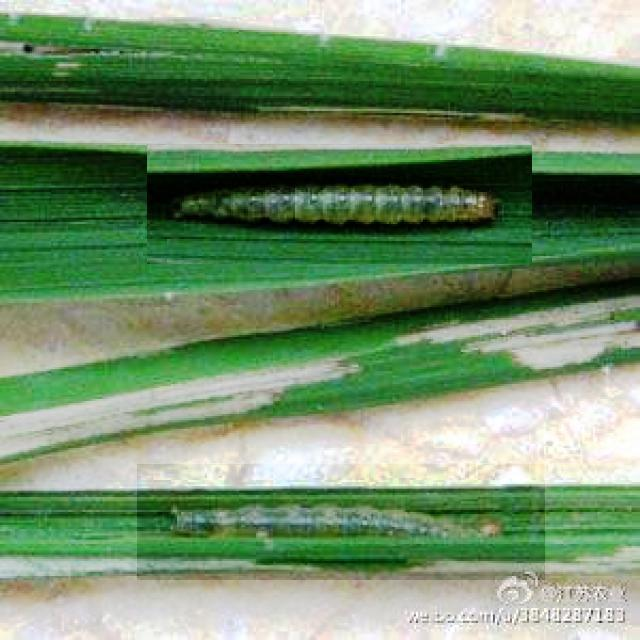leaf-folder: (137, 464, 545, 580), (147, 144, 532, 264)
